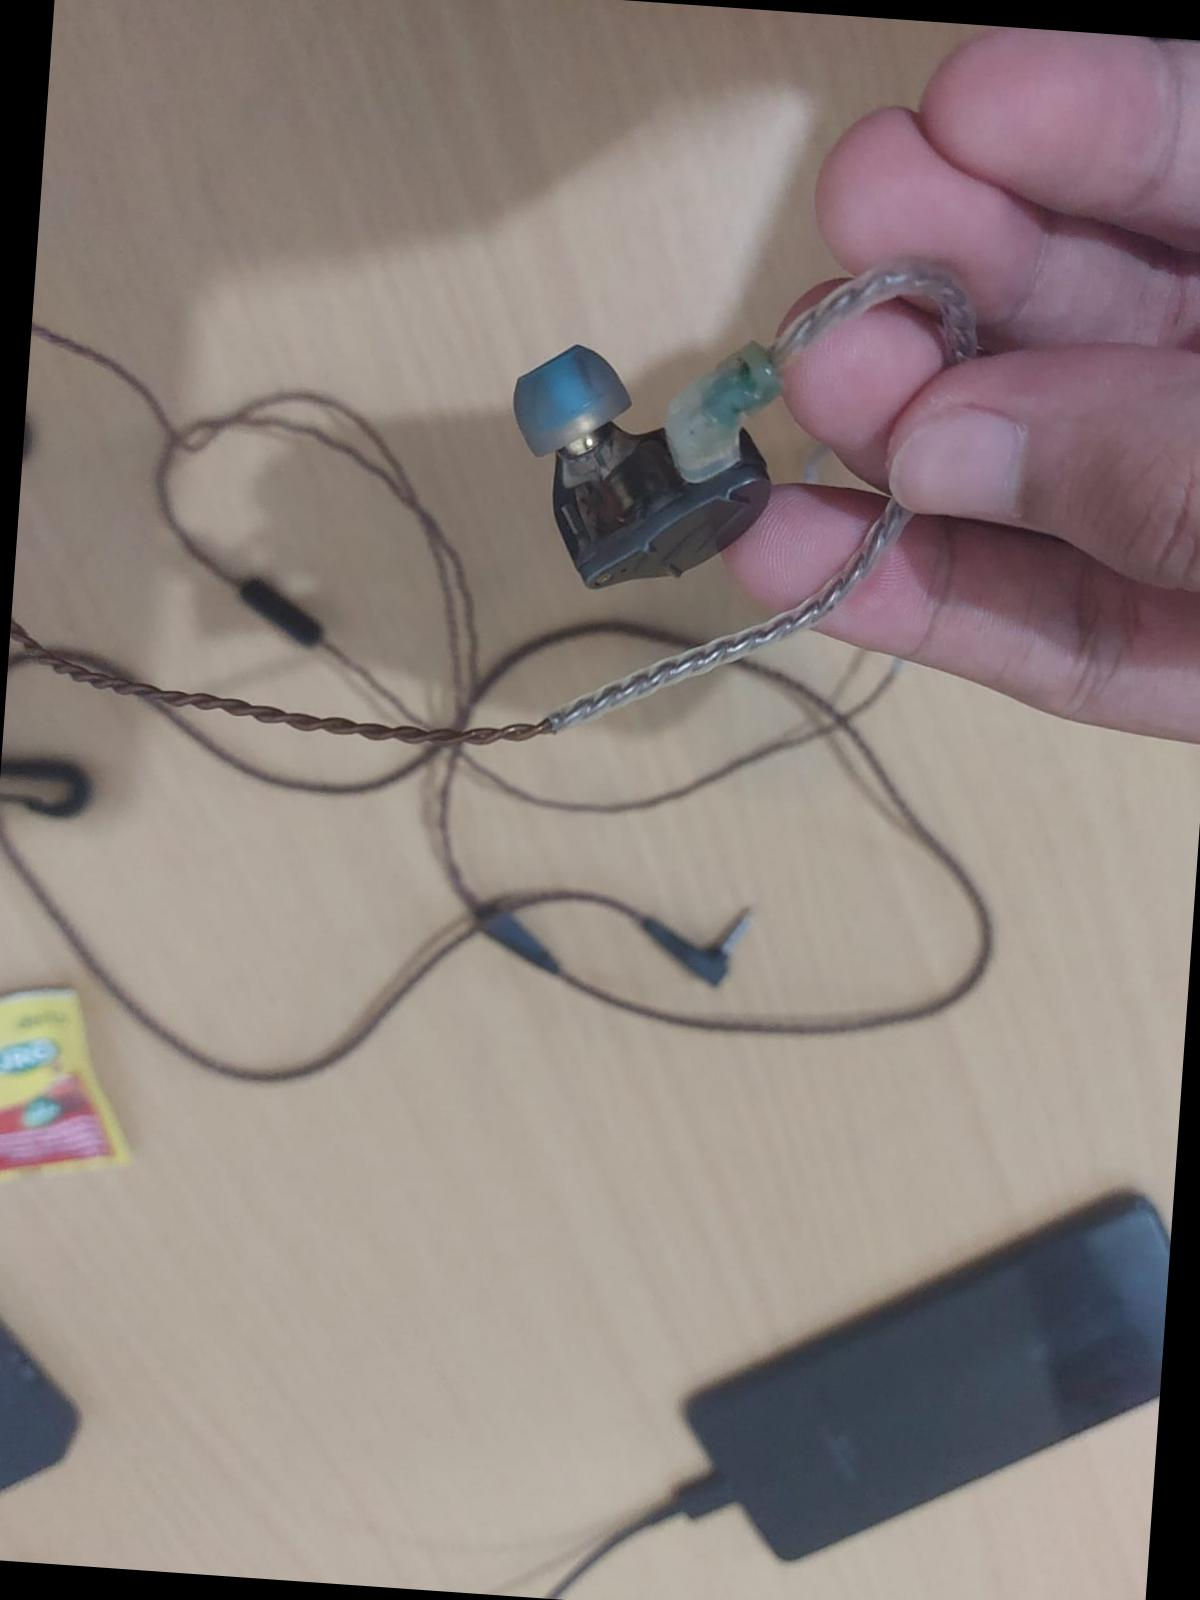Earphone: (474, 309, 787, 640)
